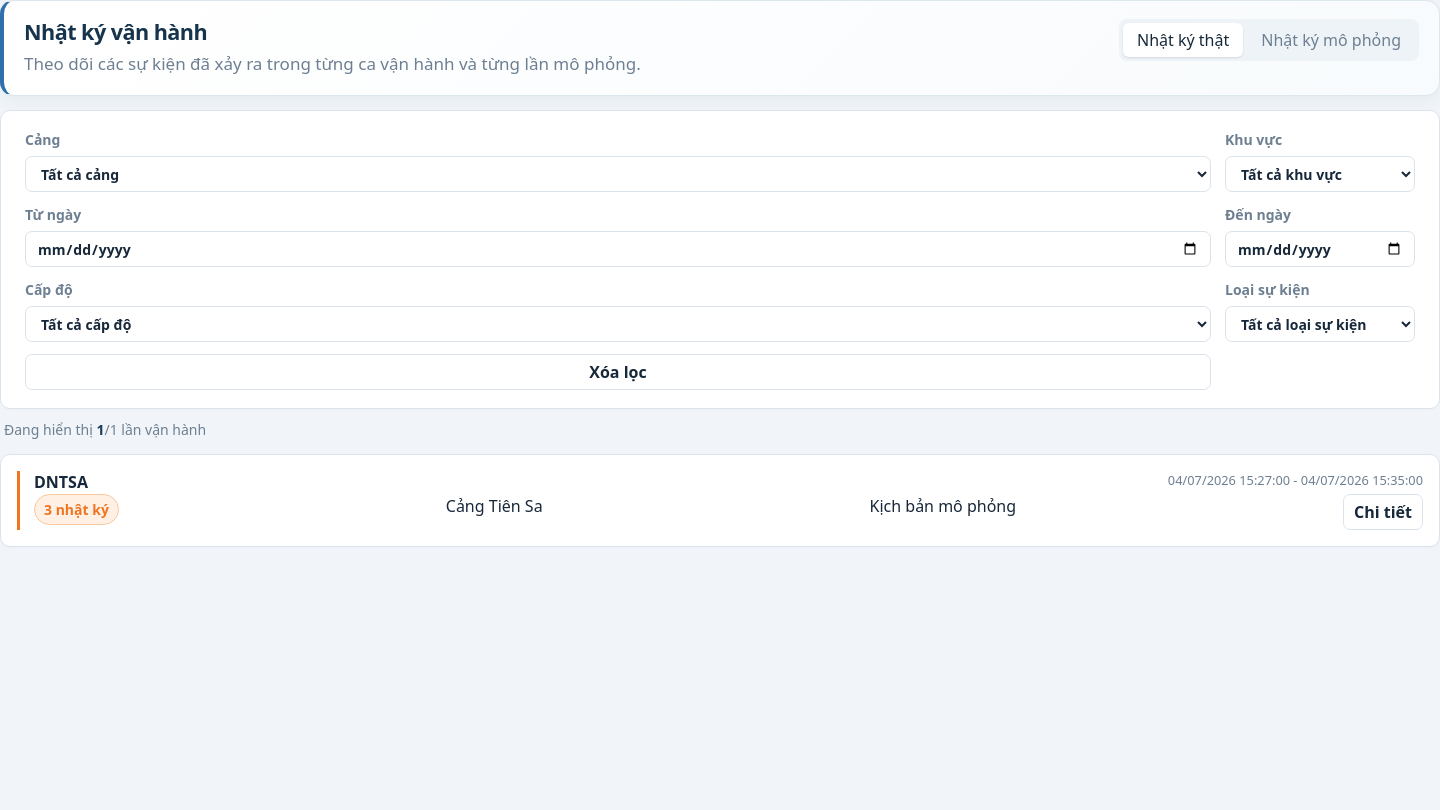
Test: LogPage › groups one port run into a single row and opens a simulation-result-style detail view
Check: the text "DNTSA" is shown, box [34, 471, 88, 494]
Check: the text "3 nhật ký" is shown, box [34, 494, 119, 525]
Click the button "Chi tiết": (1383, 512) [1343, 494, 1423, 530]
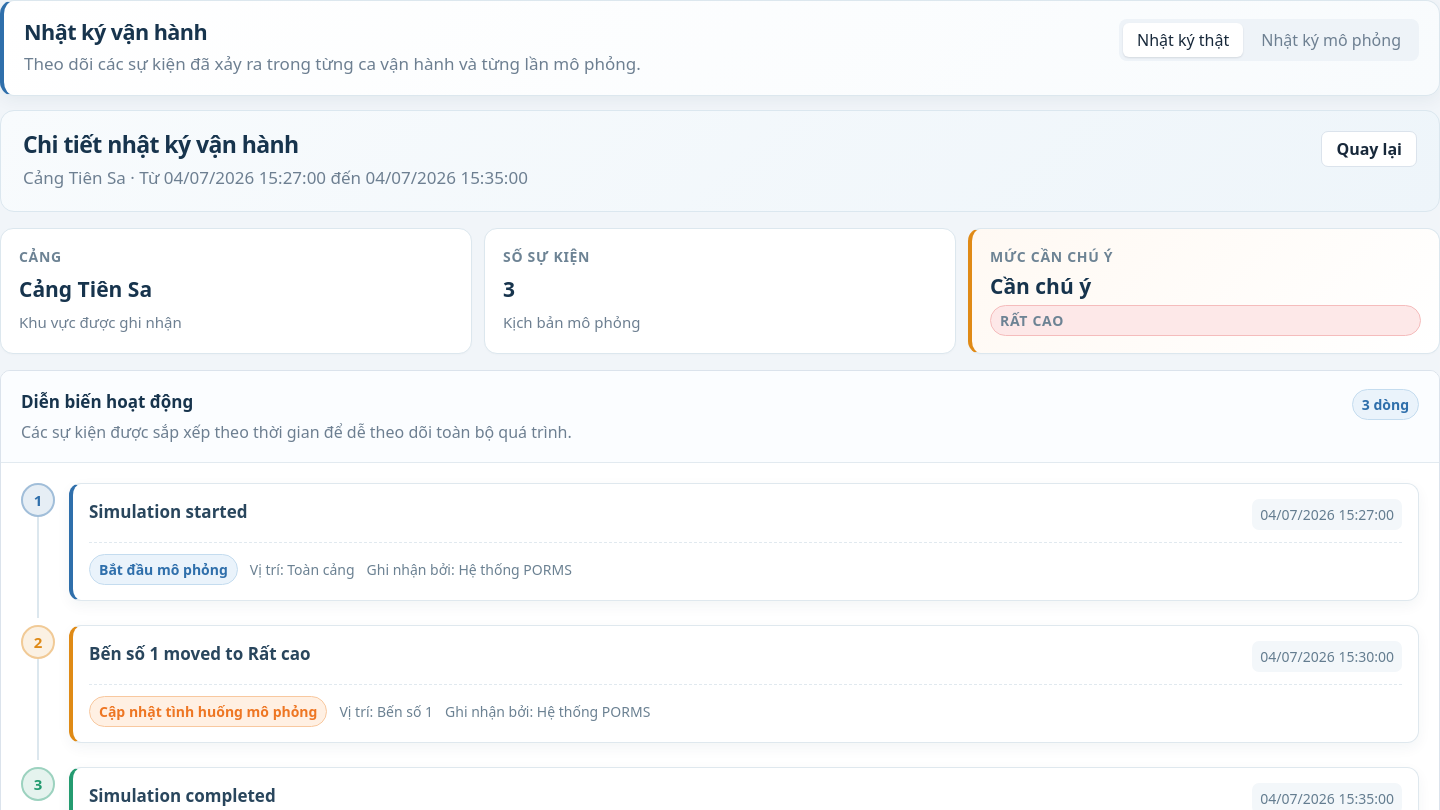
Check: the heading "Chi tiết nhật ký vận hành" is shown, box [23, 128, 299, 160]
Check: the text "Cảng Tiên Sa" is shown, box [23, 166, 126, 189]
Check: the text "Rất cao" is shown, box [990, 305, 1421, 336]
